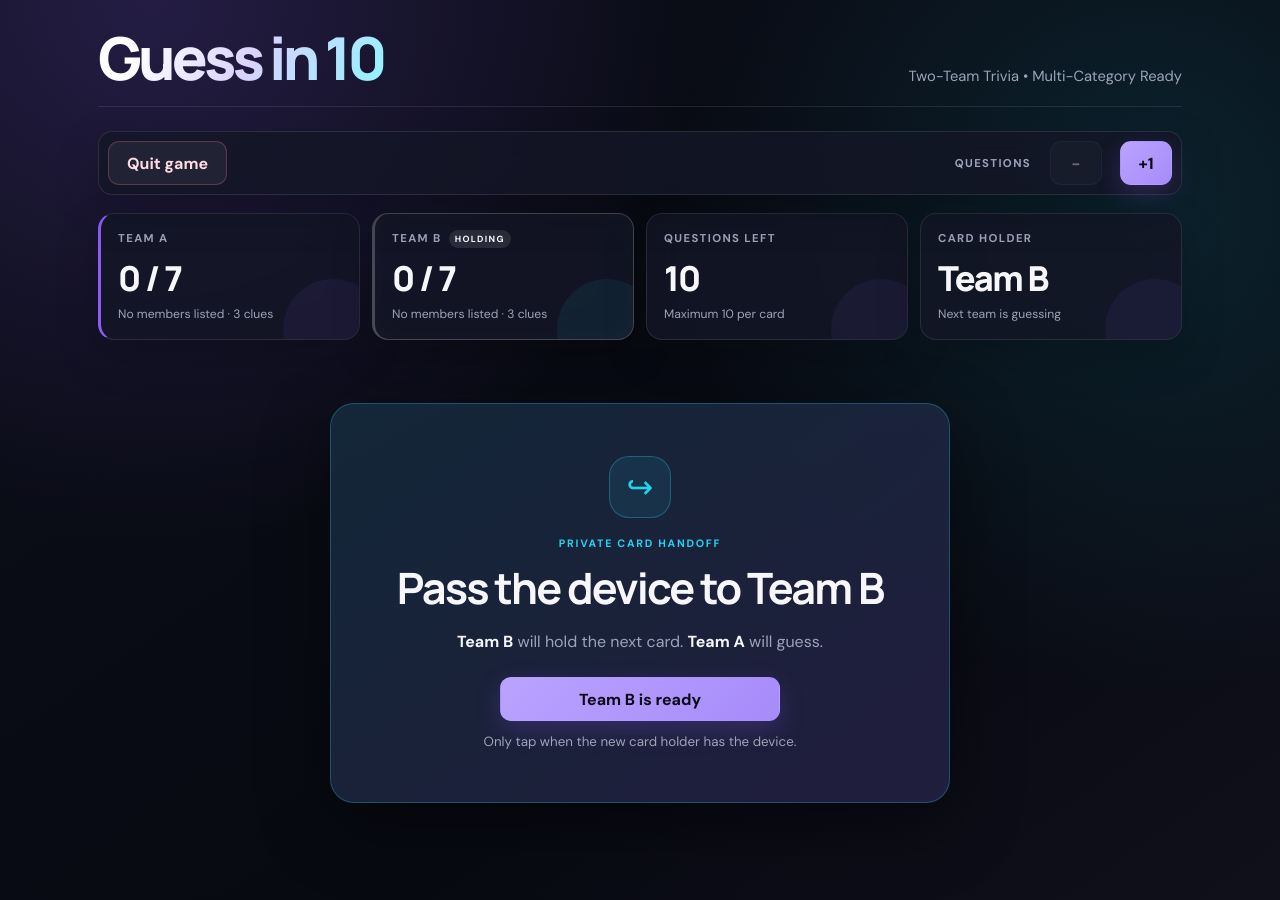
Test case: hides the next card until the new holder checks in
Expected: the heading "Pass the device to Team B" is shown, [397,558,883,617]
Expected: the text "Secret card" is not shown
Click the button "Team B is ready".
click(640, 699)  # box [500,677,780,721]
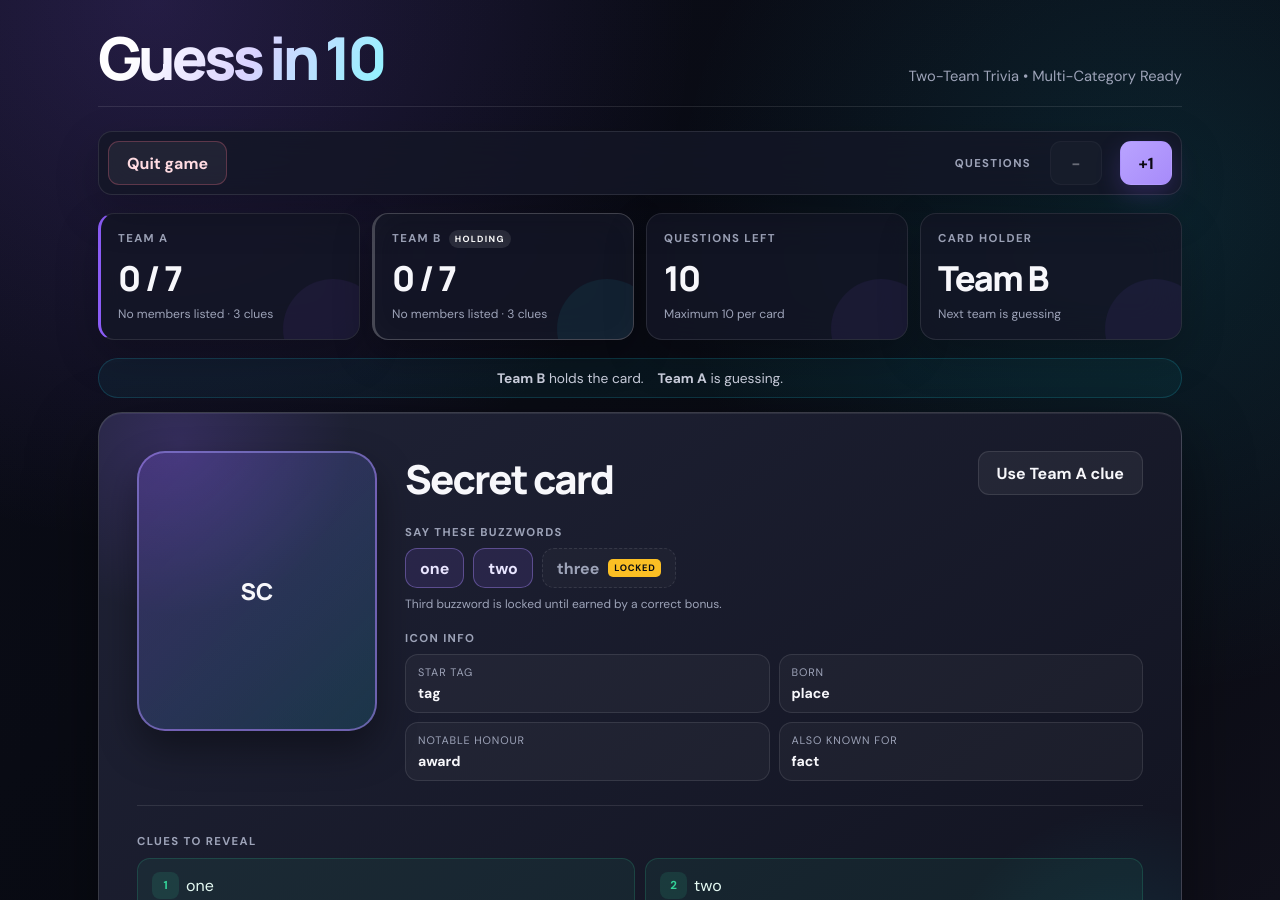
Expected: the text "Secret card" is shown, [405,451,613,506]
